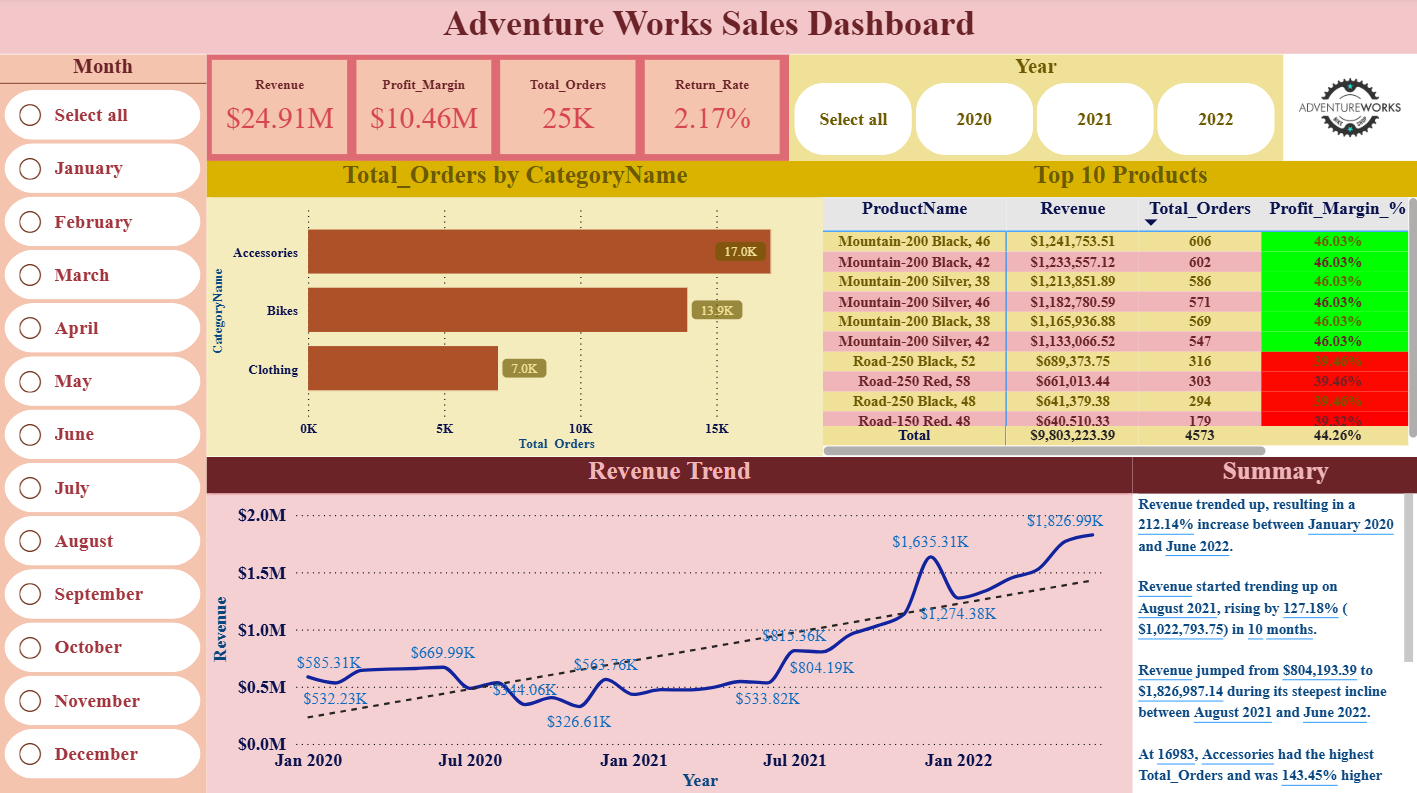

Layout of this report page (visuals, bound fields, positions):
{"tool":"powerbi","page":{"name":"Dashboard","canvas":[1280,720],"ordinal":5},"visuals":[{"type":"textbox","box":[0,0,1280.3,51.4],"z":0},{"type":"cardVisual","fields":{"Data":["Measure Table.Revenue","Measure Table.Profit_Margin","Measure Table.Total_Orders_Count","Measure Table.Return_Rate"]},"box":[187.1,51.8,525.2,95.8],"z":1000},{"type":"advancedSlicerVisual","fields":{"Values":["Calendar Lookup.Date.Variation.Date Hierarchy.Month"]},"box":[0,51.9,187.6,668],"z":2000},{"type":"lineChart","title":"Revenue Trend","fields":{"Category":["Calendar Lookup.Date.Variation.Date Hierarchy.Year","Calendar Lookup.Date.Variation.Date Hierarchy.Quarter","Calendar Lookup.Date.Variation.Date Hierarchy.Month","Calendar Lookup.Date.Variation.Date Hierarchy.Day"],"Y":["Measure Table.Revenue"]},"box":[187.1,414.5,835.2,305.7],"z":3000},{"type":"clusteredBarChart","fields":{"Category":["Product Categories Lookup.CategoryName"],"Y":["Measure Table.Total_Orders_Count"]},"box":[187,147.4,556.1,266.1],"z":4000},{"type":"pivotTable","title":"Top 10 Products","fields":{"Rows":["Product Lookup.ProductName"],"Values":["Measure Table.Revenue","Measure Table.Total_Orders_Count","Measure Table.Profit_Margin_%","Measure Table.Return_Rate"]},"box":[743.1,147.4,536.9,266.1],"z":5000},{"type":"advancedSlicerVisual","fields":{"Values":["Calendar Lookup.Date.Variation.Date Hierarchy.Year"]},"box":[712.3,51.8,445.2,95.8],"z":6000},{"type":"textbox","title":"Summary","box":[1022.3,414.5,258,305.7],"z":7000}]}

Visuals, with their boxes in screenshot pixels (x1, y1, x2, y2), scaled from the page's 1280x720 canvas onto the 1417x793 screenshot:
textbox: box=[0, 0, 1416, 57]
cardVisual - Measure Table.Revenue x Measure Table.Profit_Margin: box=[207, 57, 789, 163]
advancedSlicerVisual - Calendar Lookup.Date.Variation.Date Hierarchy.Month: box=[0, 57, 208, 792]
"Revenue Trend" lineChart: box=[207, 457, 1132, 792]
clusteredBarChart - Product Categories Lookup.CategoryName x Measure Table.Total_Orders_Count: box=[207, 162, 823, 455]
"Top 10 Products" pivotTable: box=[823, 162, 1416, 455]
advancedSlicerVisual - Calendar Lookup.Date.Variation.Date Hierarchy.Year: box=[789, 57, 1281, 163]
"Summary" textbox: box=[1132, 457, 1416, 792]
